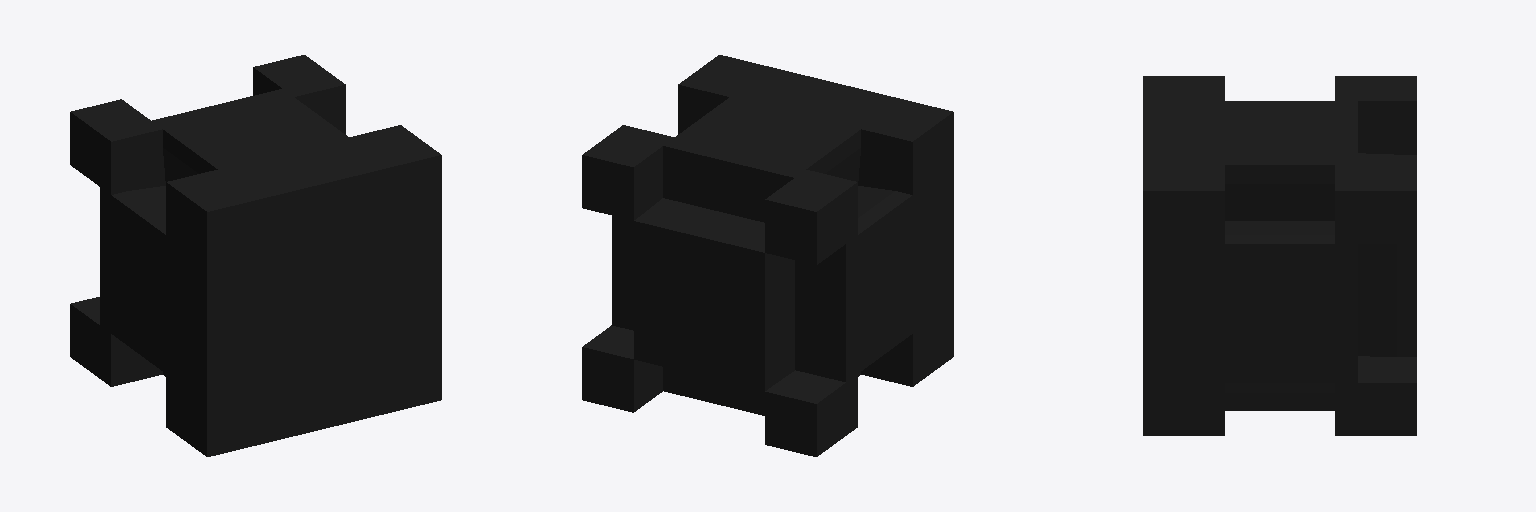
3 renders of one model, left to right at view 1: azimuth 30°, elevation 25°; view 2: azimuth 150°, elevation 25°; view 3: azimuth 270°, elevation 25°, orthographic.
Parts seen in each view (by area): view 1: coz_block_geo; view 2: coz_block_geo; view 3: coz_block_geo.
Part boxes in pixels (x1,y1,x2,y2): coz_block_geo: (70,55,441,456); coz_block_geo: (582,55,953,456); coz_block_geo: (1143,76,1416,435).
Bounding box in the file's own units: 4.11 × 4.11 × 4.17.